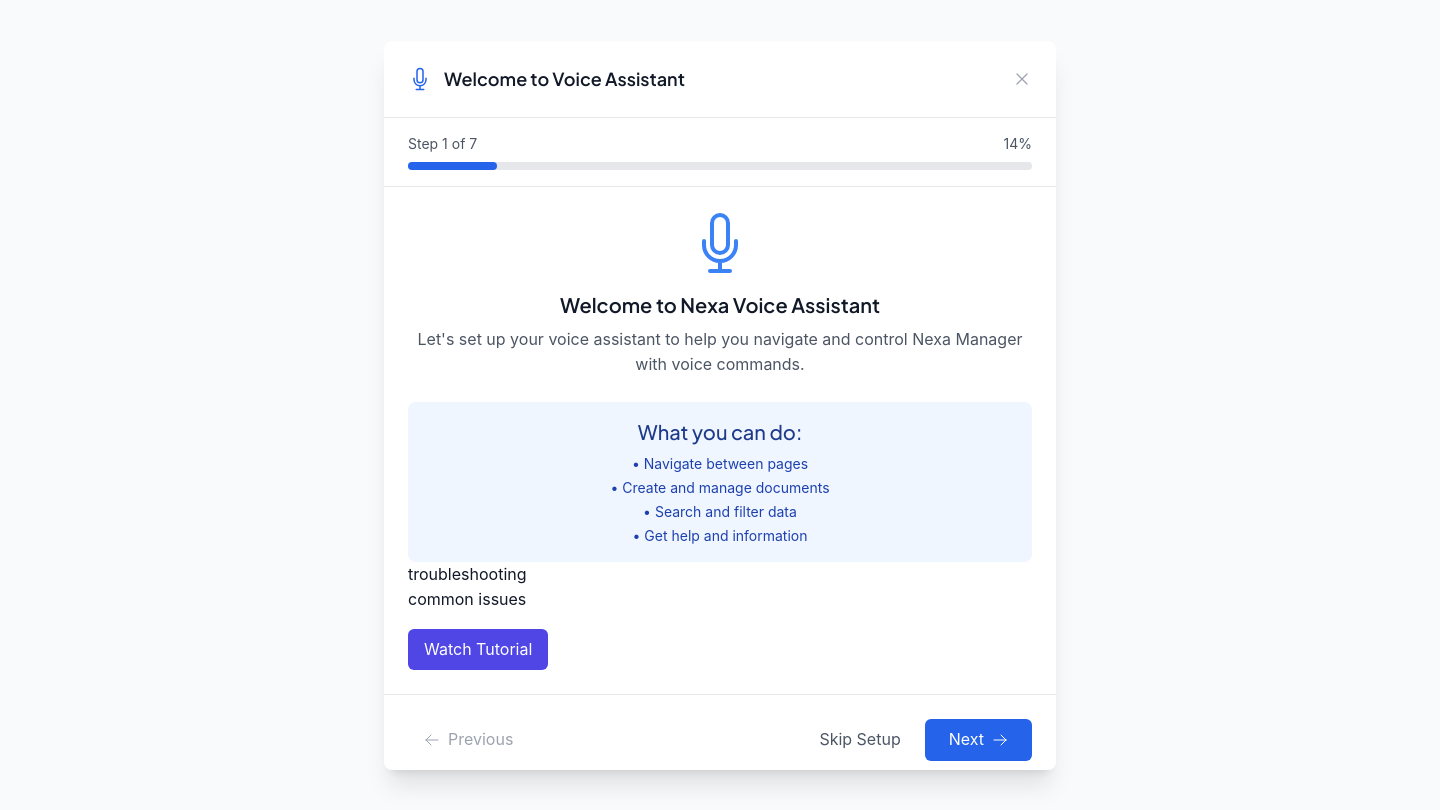
Test: VoiceOnboarding › navigates through onboarding steps
The width and height of the screenshot is (1440, 810).
Expected: the text "Step 1 of 7" is shown, [408,134,477,154]
Click the button "Next" at [978, 740], box [925,720,1032,761]
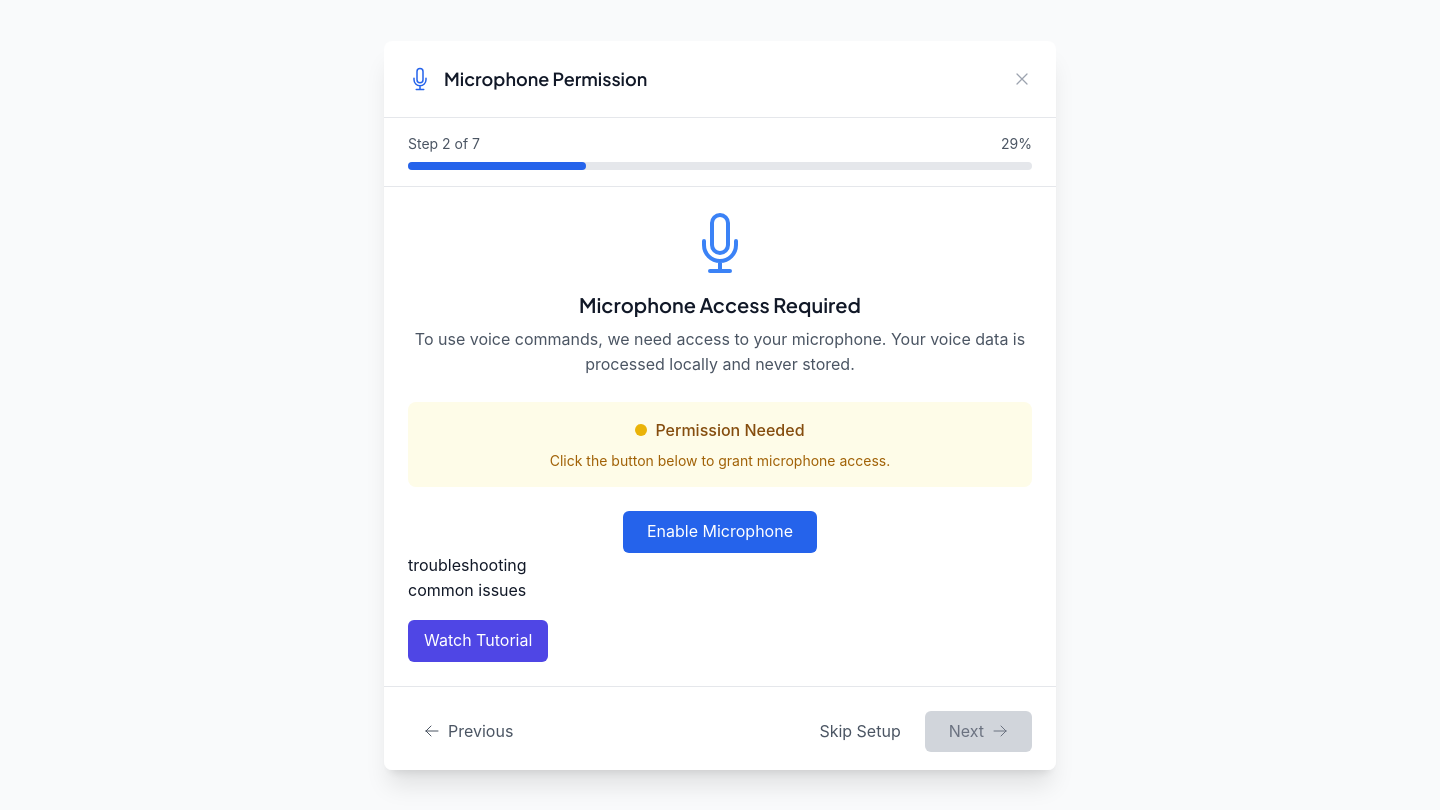
Now the text "Step 2 of 7" is shown, box [408,134,480,154]
Now the heading "Microphone Permission" is shown, box [444,64,647,92]
